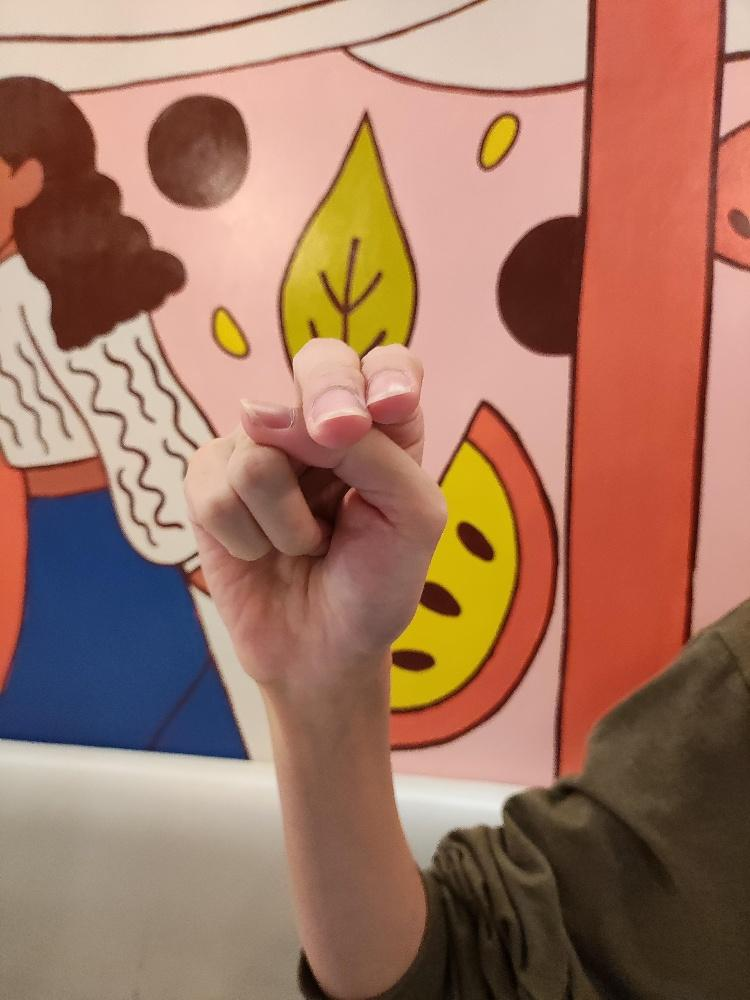n: (177, 333, 450, 690)
